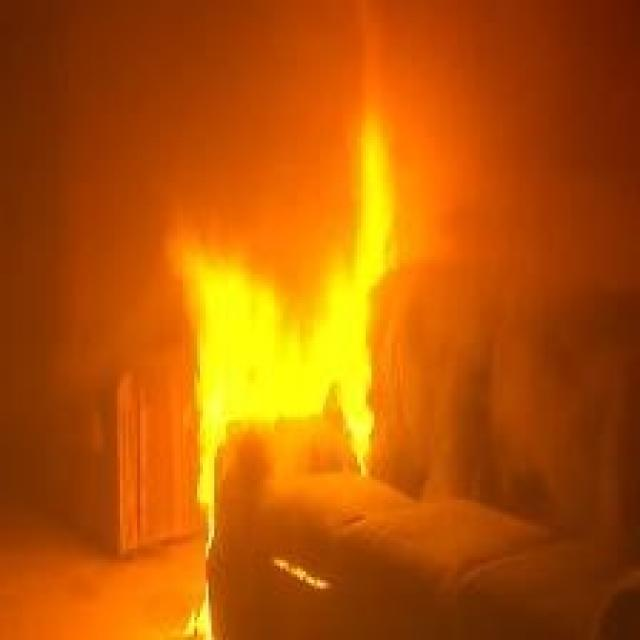fire: (144, 99, 464, 604)
